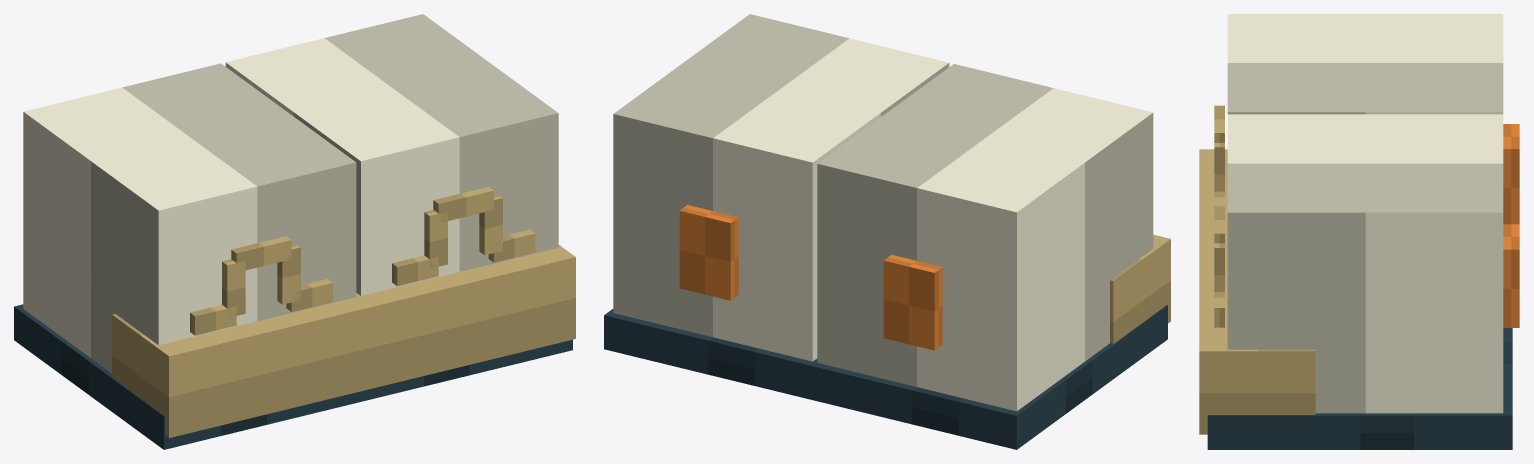
Rendered from huashen_dari_boots.obj.
3 views of the same model, side by side, from view 1: azimuth 30°, elevation 25°; view 2: azimuth 150°, elevation 25°; view 3: azimuth 270°, elevation 25° (orthographic).
Visible parts, largest first — view 1: lotus_boot_-1, lotus_boot_1, lotus_gold_toe_-1, lotus_gold_toe_1, lotus_sole_-1, lotus_sole_1, lotus_foot_mark_1_2, lotus_foot_mark_-1_2, lotus_foot_mark_1_1, lotus_foot_mark_-1_1, lotus_foot_mark_-1_3, lotus_foot_mark_1_3 (+4 smaller); view 2: lotus_boot_-1, lotus_boot_1, lotus_sole_-1, lotus_sole_1, lotus_heel_core_-1, lotus_heel_core_1, lotus_gold_toe_-1; view 3: lotus_boot_1, lotus_boot_-1, lotus_sole_1, lotus_gold_toe_1, lotus_gold_toe_-1, lotus_heel_core_1, lotus_heel_core_-1, lotus_foot_mark_-1_3, lotus_foot_mark_1_3, lotus_foot_mark_-1_2, lotus_foot_mark_1_2, lotus_foot_mark_1_4.
Part boxes in pixels (<box>): lotus_boot_-1: <box>23,63,356,373</box>; lotus_boot_1: <box>225,14,558,295</box>; lotus_gold_toe_-1: <box>112,294,373,437</box>; lotus_gold_toe_1: <box>356,245,575,388</box>; lotus_sole_-1: <box>14,304,370,449</box>; lotus_sole_1: <box>366,339,572,399</box>; lotus_foot_mark_1_2: <box>433,187,493,222</box>; lotus_foot_mark_-1_2: <box>231,236,291,271</box>; lotus_foot_mark_1_1: <box>424,210,447,268</box>; lotus_foot_mark_-1_1: <box>222,259,245,317</box>; lotus_foot_mark_-1_3: <box>277,243,300,304</box>; lotus_foot_mark_1_3: <box>479,194,502,255</box>; lotus_boot_-1: <box>817,64,1153,411</box>; lotus_boot_1: <box>613,14,949,361</box>; lotus_sole_-1: <box>808,305,1167,449</box>; lotus_sole_1: <box>604,309,812,399</box>; lotus_heel_core_-1: <box>883,254,942,350</box>; lotus_heel_core_1: <box>679,205,738,300</box>; lotus_gold_toe_-1: <box>1110,234,1170,343</box>; lotus_boot_1: <box>1227,114,1503,413</box>; lotus_boot_-1: <box>1227,14,1503,114</box>; lotus_sole_1: <box>1207,328,1512,449</box>; lotus_gold_toe_1: <box>1199,250,1315,434</box>; lotus_gold_toe_-1: <box>1199,149,1227,249</box>; lotus_heel_core_1: <box>1503,224,1519,327</box>; lotus_heel_core_-1: <box>1503,124,1519,224</box>; lotus_foot_mark_-1_3: <box>1214,143,1224,191</box>; lotus_foot_mark_1_3: <box>1214,243,1224,291</box>; lotus_foot_mark_-1_2: <box>1214,105,1224,142</box>; lotus_foot_mark_1_2: <box>1214,206,1224,243</box>; lotus_foot_mark_1_4: <box>1214,292,1224,327</box>.
Bounding box in the file's own units: 0.5562 × 0.3 × 0.3703.
